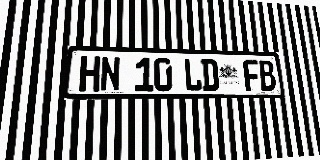0: (154, 57, 172, 91)
1: (135, 57, 154, 91)
B: (258, 60, 277, 91)
D: (201, 59, 219, 91)
F: (242, 60, 261, 91)
H: (79, 56, 100, 92)
L: (184, 58, 202, 91)
N: (100, 56, 120, 91)
